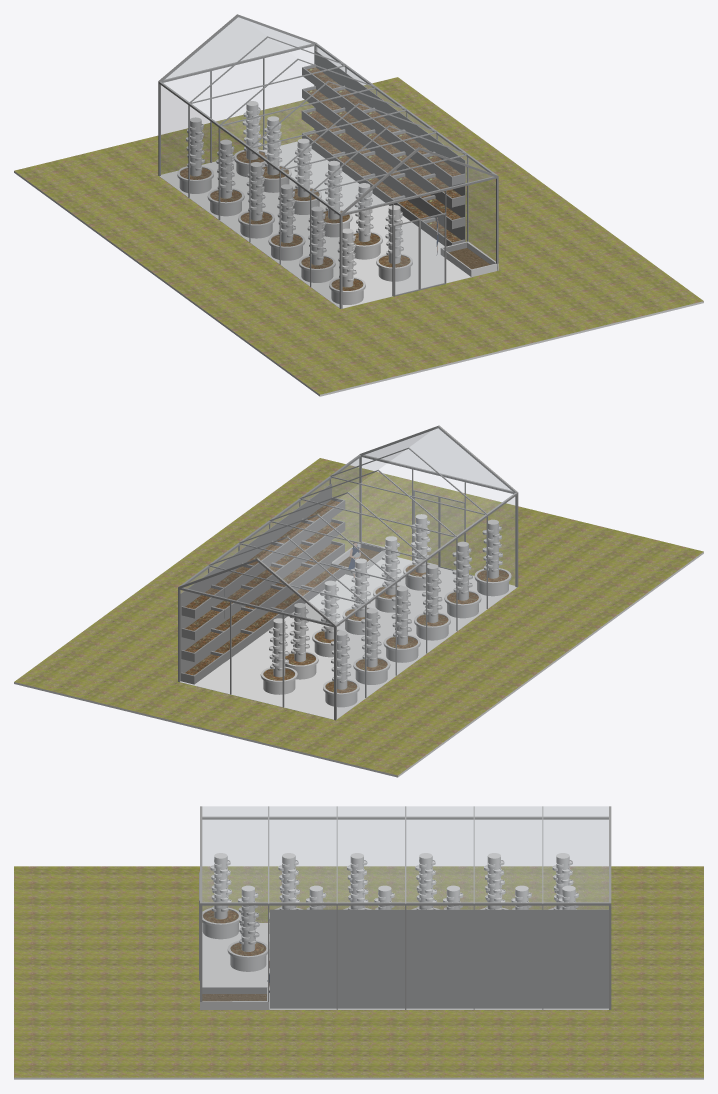
File: Мой первый 3D.glb
3 views of the same model, one above another, from view 1: azimuth 30°, elevation 25°; view 2: azimuth 150°, elevation 25°; view 3: azimuth 270°, elevation 25° (orthographic). The views are drawn at different scales.
Parts seen in each view (by area): view 1: Geom3D (×4), Geom3D_ (×18); view 2: Geom3D (×4), Geom3D_ (×16); view 3: Geom3D (×6), Geom3D_ (×13).
Boxes of the visible parts, left/top/right/bottom form: Geom3D (×4): left=14, top=15, right=703, bottom=396; Geom3D_ (×18): left=159, top=43, right=498, bottom=308; Geom3D (×4): left=14, top=427, right=703, bottom=777; Geom3D_ (×16): left=179, top=454, right=517, bottom=719; Geom3D (×6): left=14, top=806, right=703, bottom=1079; Geom3D_ (×13): left=202, top=816, right=608, bottom=1009.
Bounding box in the file's own units: 17.01 × 6.1 × 23.49.
28 materials, 3 textured.
